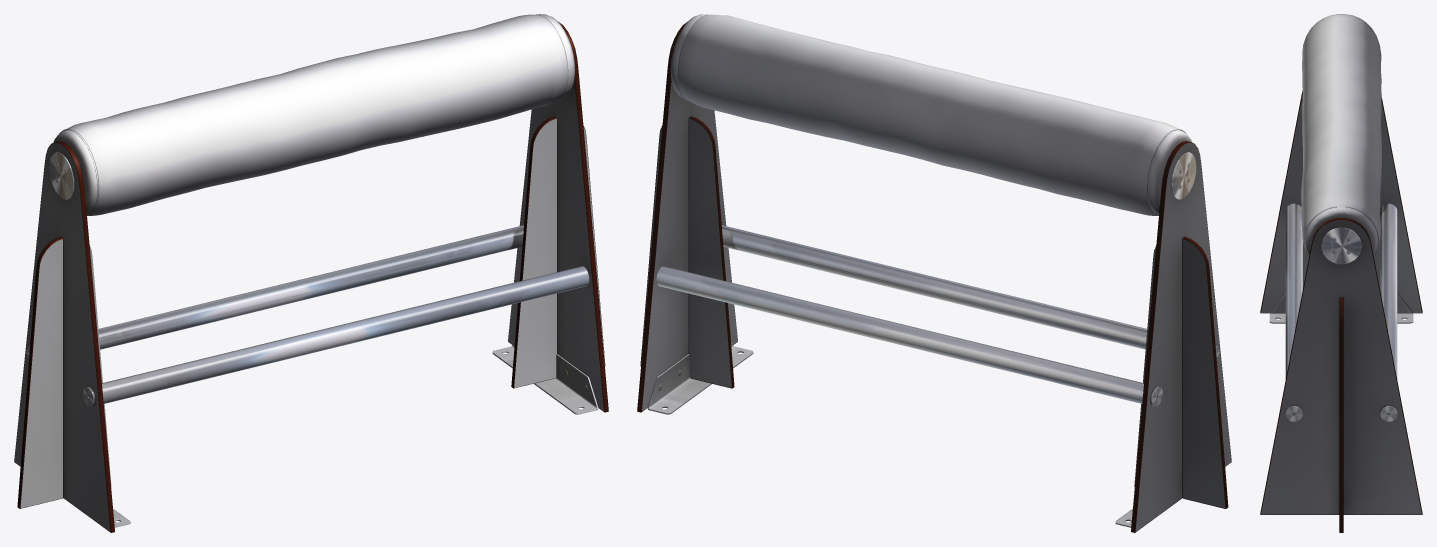
The model's file is sassari.glb.
3 renders of one model, left to right at view 1: azimuth 30°, elevation 25°; view 2: azimuth 150°, elevation 25°; view 3: azimuth 270°, elevation 25°, orthographic. The views are drawn at different scales.
Parts seen in each view (by area): view 1: sassari_140-white; view 2: sassari_140-white; view 3: sassari_140-white.
Part boxes in pixels (x1,y1,x2,y2): sassari_140-white: (14,14,608,532); sassari_140-white: (637,14,1231,532); sassari_140-white: (1260,14,1422,532).
Bounding box in the file's own units: 1.4 × 0.8362 × 0.4003.
Materials: 1 (1 with a texture image).
